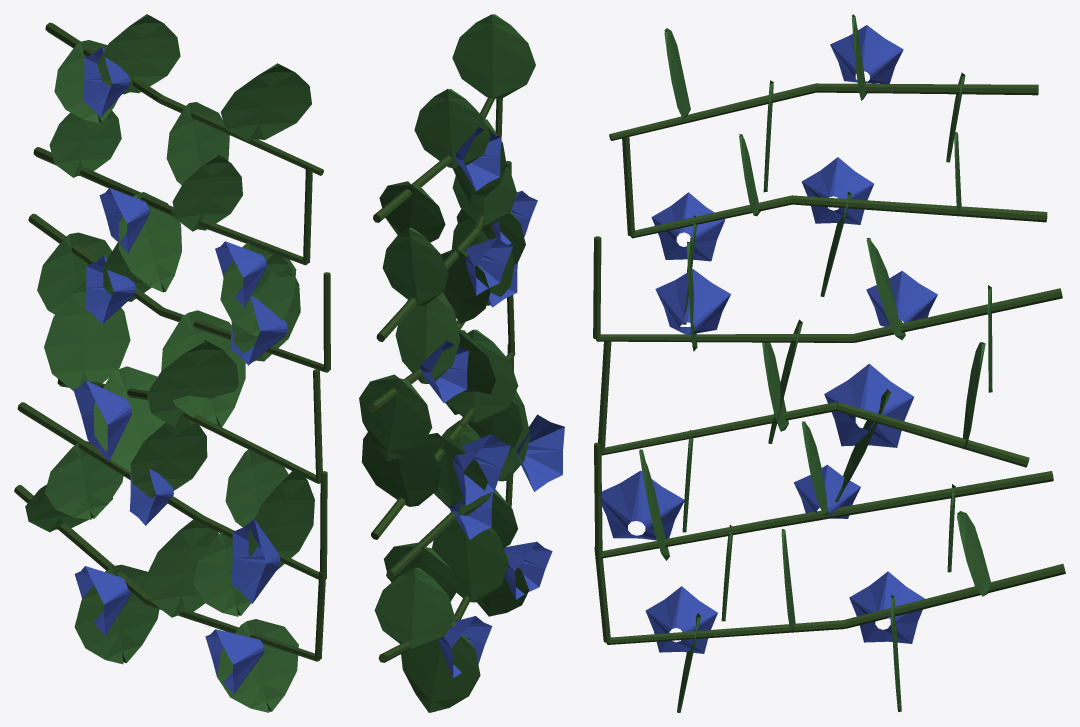
Rendered from VD_DwarfMorningGlory_C.obj.
3 views of the same model, side by side, from view 1: azimuth 30°, elevation 25°; view 2: azimuth 150°, elevation 25°; view 3: azimuth 270°, elevation 25° (orthographic). The views are drawn at different scales.
Parts seen in each view (by area): view 1: VD_DwarfMorningGlory_C; view 2: VD_DwarfMorningGlory_C; view 3: VD_DwarfMorningGlory_C.
Boxes of the visible parts, x1,y1,x2,y2 form: VD_DwarfMorningGlory_C: (14,14,330,712); VD_DwarfMorningGlory_C: (359,14,564,712); VD_DwarfMorningGlory_C: (593,14,1065,712).
Bounding box in the file's own units: 36.73 × 162 × 99.04.
